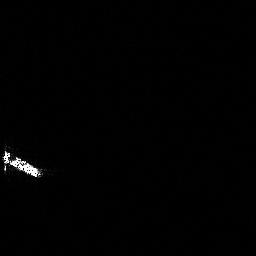ship: (1, 147, 47, 182)
